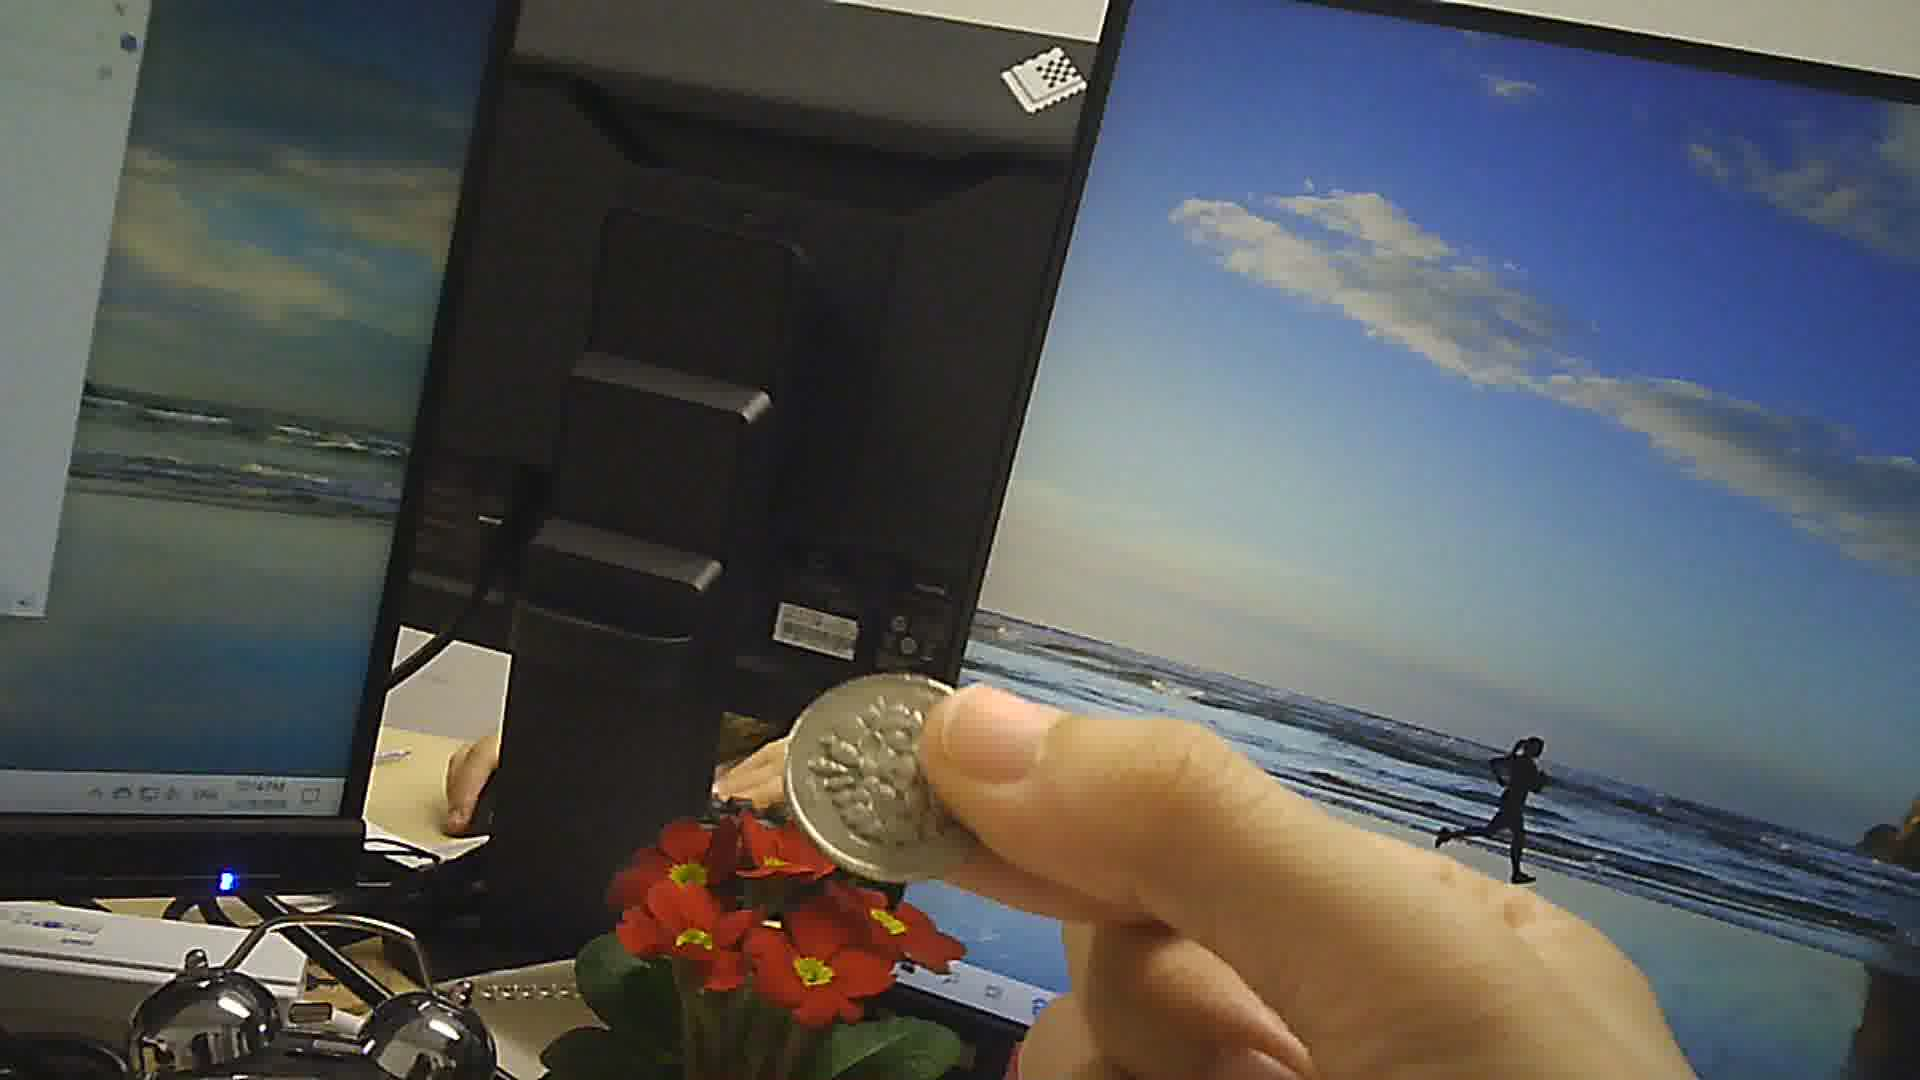100 Yen: (783, 666, 1014, 884)
